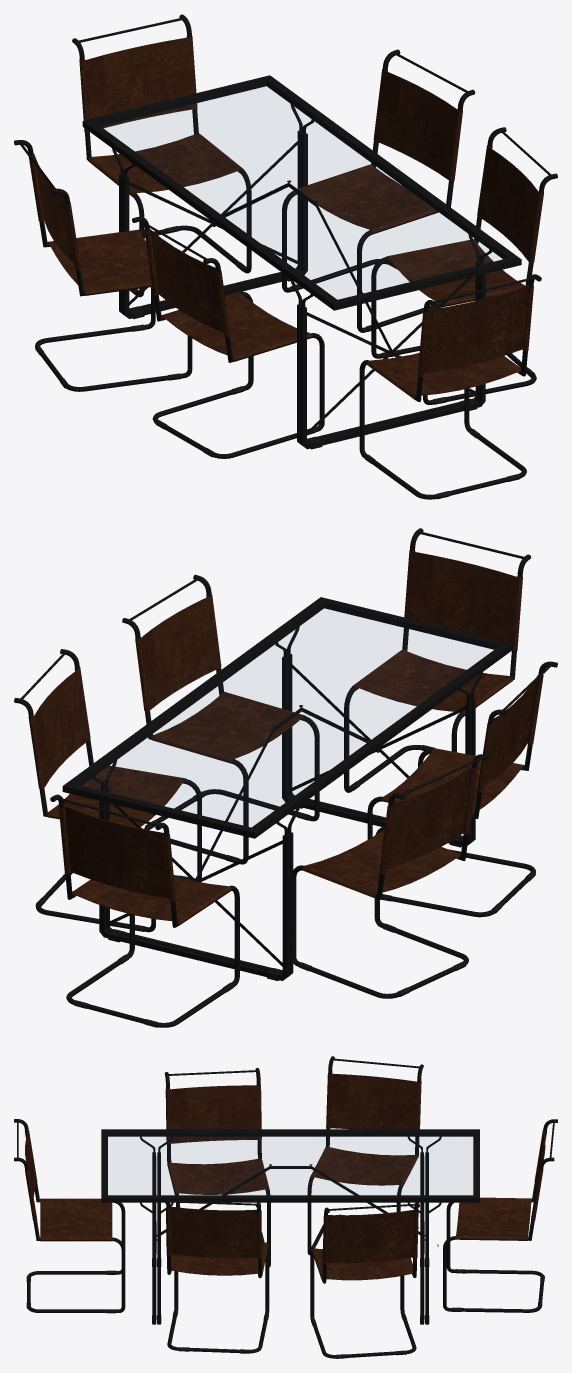
File: table.obj
3 renders of one model, top to bottom at view 1: azimuth 30°, elevation 25°; view 2: azimuth 150°, elevation 25°; view 3: azimuth 270°, elevation 25°, orthographic. The views are drawn at different scales.
Visible parts, largest first — view 1: Object_2.003_Object_0.003; view 2: Object_2.003_Object_0.003; view 3: Object_2.003_Object_0.003.
Boxes of the visible parts, <box> form: Object_2.003_Object_0.003: <box>14,14,557,499</box>; Object_2.003_Object_0.003: <box>14,528,557,1027</box>; Object_2.003_Object_0.003: <box>14,1056,557,1358</box>.
Size of the model in its own units: 2.12 by 0.9995 by 3.17.
Materials: 2 (1 with a texture image).
